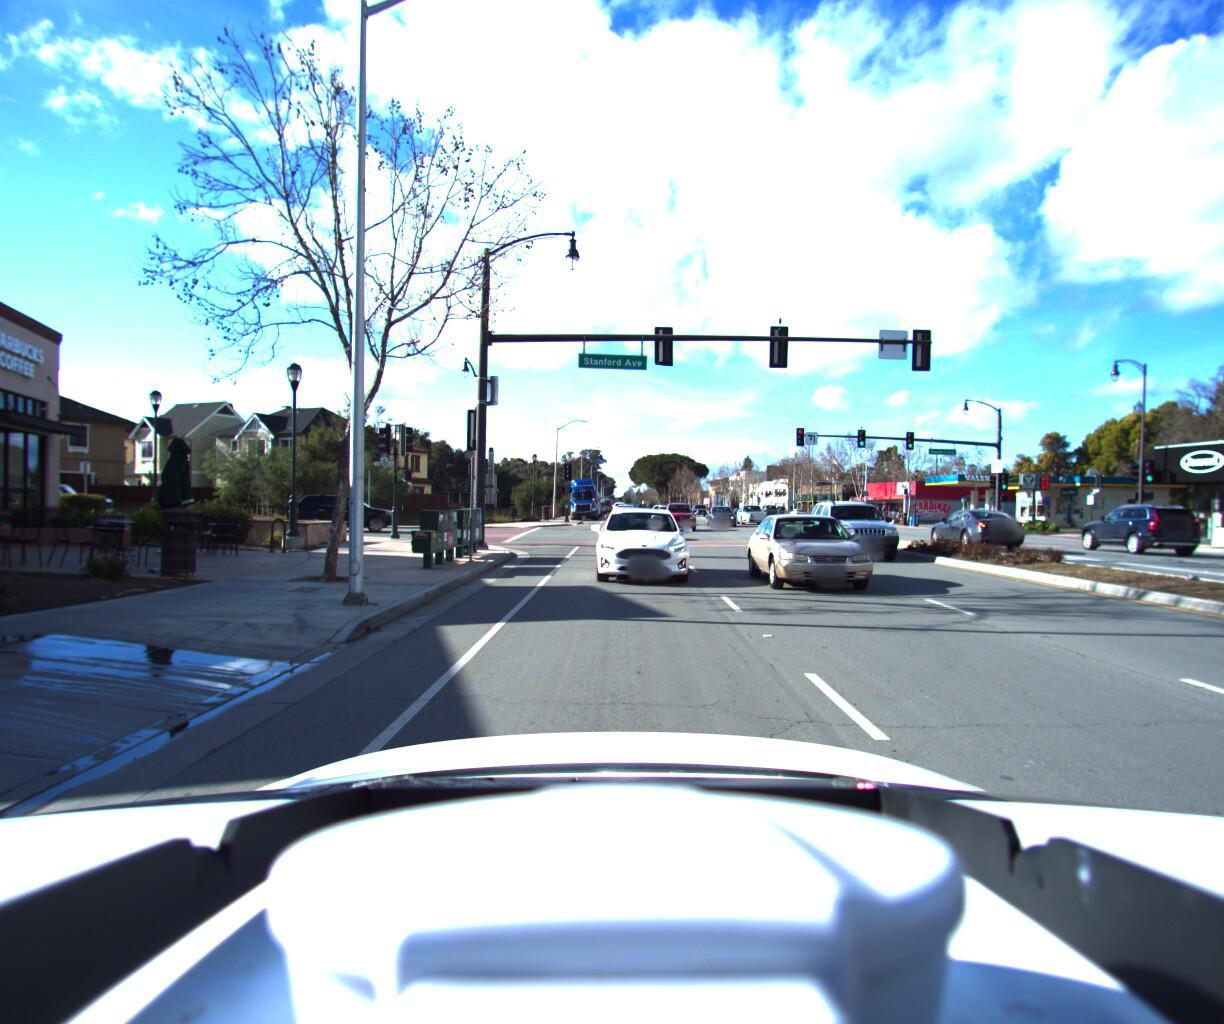car: (746, 499, 911, 602), (590, 500, 691, 585), (812, 493, 929, 564), (1061, 505, 1188, 554), (922, 506, 1033, 550), (280, 492, 397, 533), (663, 500, 703, 531), (703, 501, 742, 528), (733, 503, 769, 524)
truck: (567, 477, 599, 522)
